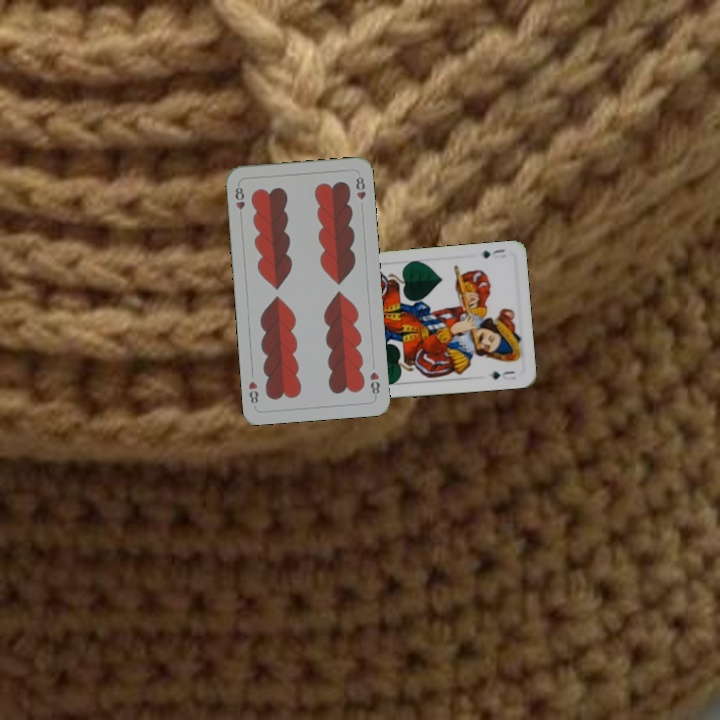GU: (478, 245, 508, 261)
H8: (231, 183, 247, 221), (366, 368, 382, 400)
